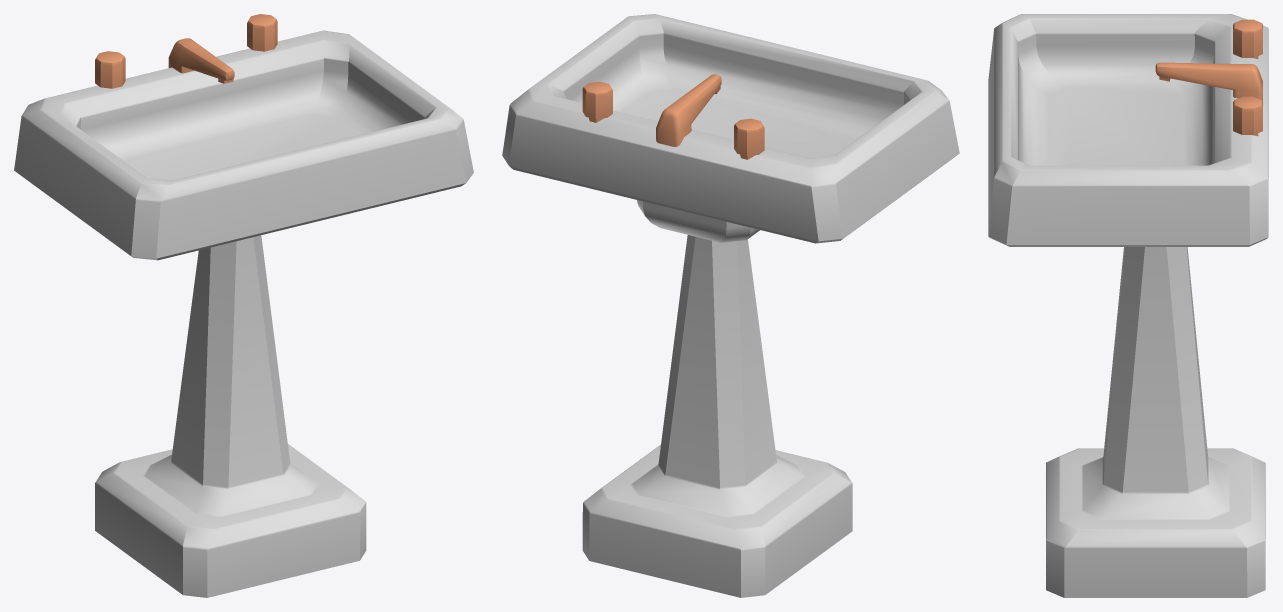
Rendered from Pia.fbx.
The picture shows the model from 3 angles, left to right: view 1: azimuth 30°, elevation 25°; view 2: azimuth 150°, elevation 25°; view 3: azimuth 270°, elevation 25°; orthographic projection. The views are drawn at different scales.
Parts seen in each view (by area): view 1: Plane; view 2: Plane; view 3: Plane.
Boxes of the visible parts, x1,y1,x2,y2 form: Plane: (14, 14, 473, 597); Plane: (502, 14, 959, 597); Plane: (988, 14, 1268, 597).
Bounding box in the file's own units: 193 × 253 × 132.
